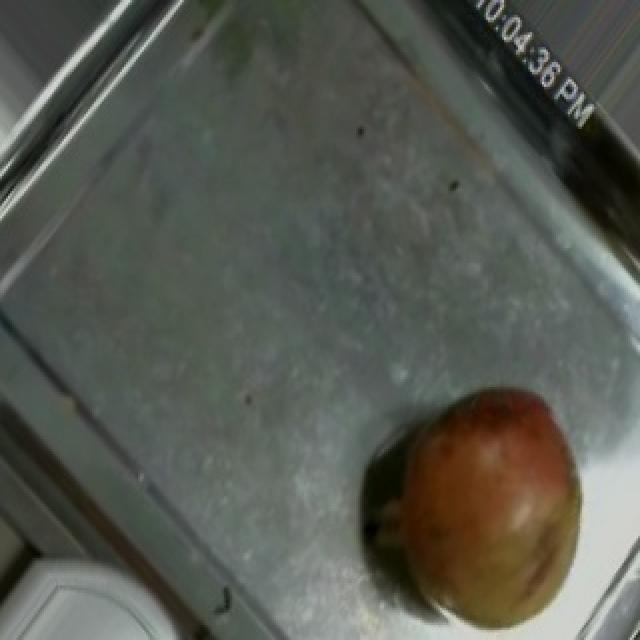fruit: (360, 352, 612, 630)
